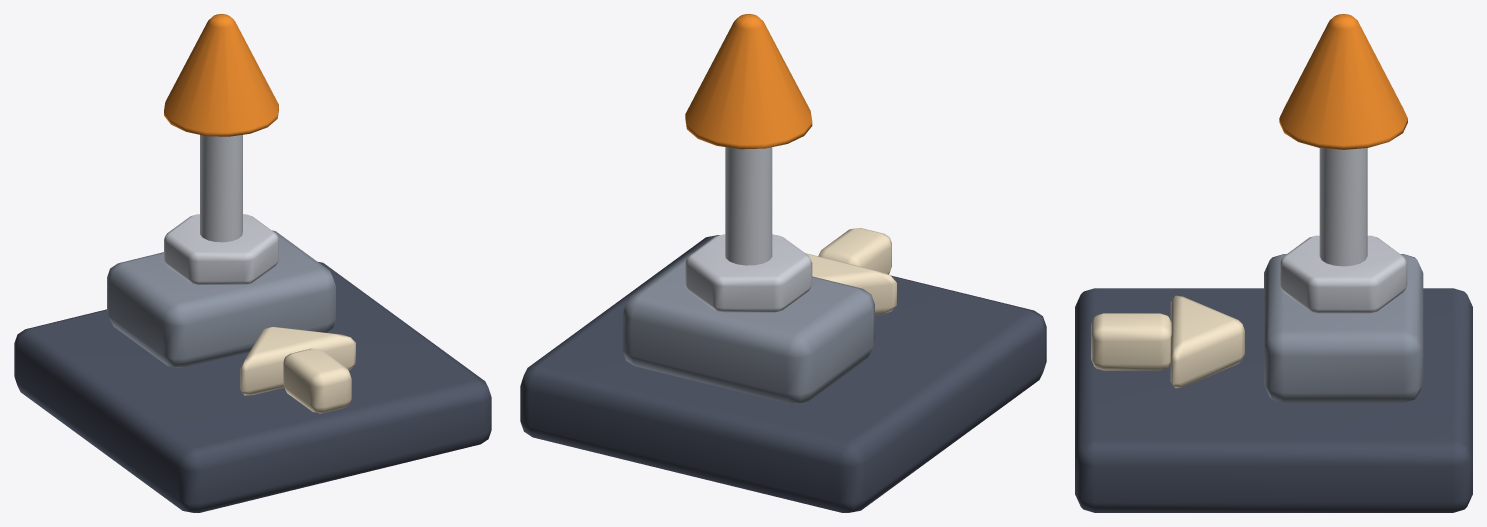
File: Ctrl_Toggle_Nav.fbx
3 views of the same model, side by side, from view 1: azimuth 30°, elevation 25°; view 2: azimuth 150°, elevation 25°; view 3: azimuth 270°, elevation 25° (orthographic). The views are drawn at different scales.
Visible parts, largest first — view 1: Ctrl_Toggle_Nav.Base, Ctrl_Toggle_Nav.Housing, Ctrl_Toggle_Nav.Move_Lever, Ctrl_Toggle_Nav.Icon, Ctrl_Toggle_Nav.Nut; view 2: Ctrl_Toggle_Nav.Base, Ctrl_Toggle_Nav.Housing, Ctrl_Toggle_Nav.Move_Lever, Ctrl_Toggle_Nav.Nut, Ctrl_Toggle_Nav.Icon; view 3: Ctrl_Toggle_Nav.Base, Ctrl_Toggle_Nav.Move_Lever, Ctrl_Toggle_Nav.Housing, Ctrl_Toggle_Nav.Icon, Ctrl_Toggle_Nav.Nut.
Part boxes in pixels (bbox=[...]): Ctrl_Toggle_Nav.Base: bbox=[14, 262, 491, 512]; Ctrl_Toggle_Nav.Housing: bbox=[107, 230, 335, 367]; Ctrl_Toggle_Nav.Move_Lever: bbox=[164, 14, 278, 242]; Ctrl_Toggle_Nav.Icon: bbox=[240, 327, 355, 413]; Ctrl_Toggle_Nav.Nut: bbox=[164, 214, 278, 284]; Ctrl_Toggle_Nav.Base: bbox=[520, 235, 1046, 512]; Ctrl_Toggle_Nav.Housing: bbox=[622, 252, 874, 403]; Ctrl_Toggle_Nav.Move_Lever: bbox=[685, 14, 812, 265]; Ctrl_Toggle_Nav.Nut: bbox=[685, 234, 812, 312]; Ctrl_Toggle_Nav.Icon: bbox=[805, 228, 896, 315]; Ctrl_Toggle_Nav.Base: bbox=[1075, 288, 1472, 512]; Ctrl_Toggle_Nav.Move_Lever: bbox=[1279, 14, 1407, 266]; Ctrl_Toggle_Nav.Housing: bbox=[1264, 254, 1423, 402]; Ctrl_Toggle_Nav.Icon: bbox=[1091, 295, 1244, 388]; Ctrl_Toggle_Nav.Nut: bbox=[1280, 235, 1407, 313].
Bounding box in the file's own units: 0.2 × 0.233 × 0.2.
Materials: 1 (1 with a texture image).
